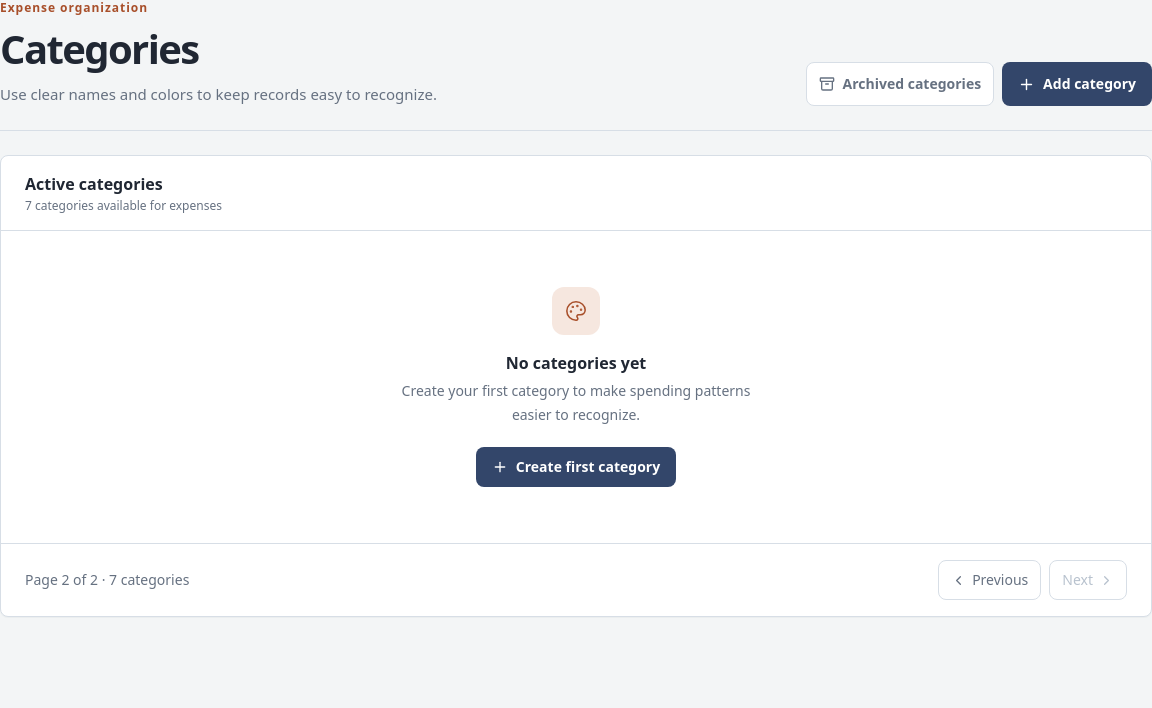
Scenario: expense category management › creates a category
Click the button "Add category" at (1077, 84), box top-left (1002, 62), bottom-right (1151, 106)
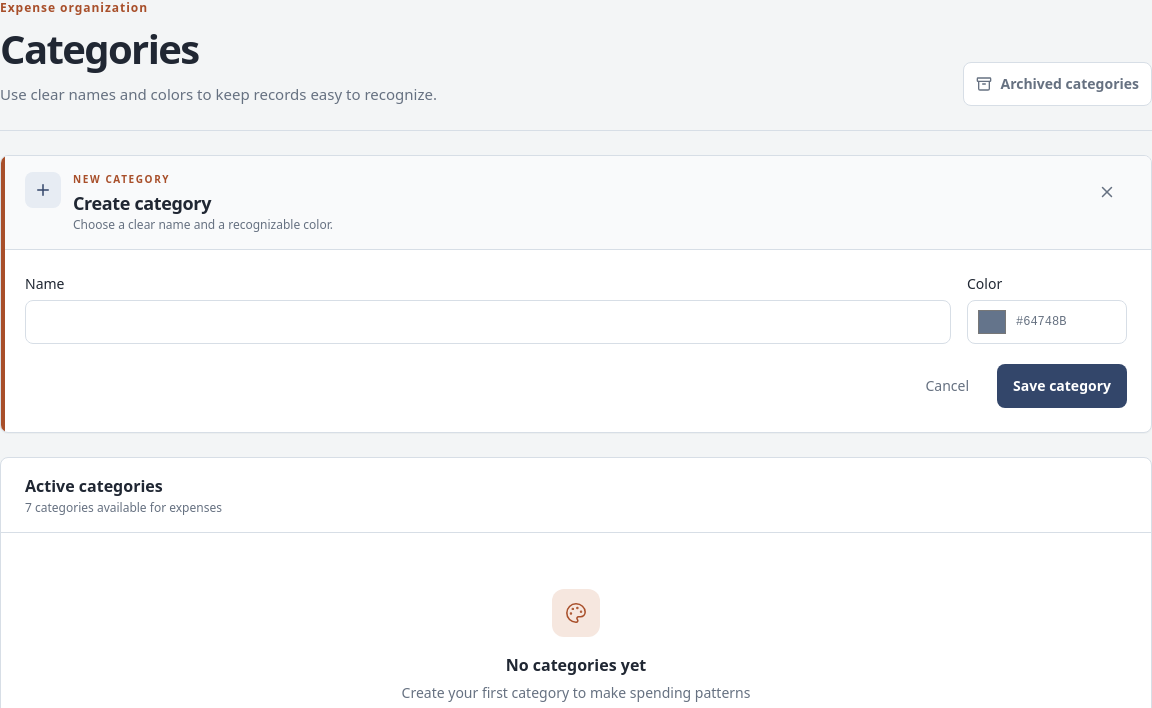
Type "Meals" into the field labelled "Name" at (488, 322), box top-left (25, 300), bottom-right (951, 344)
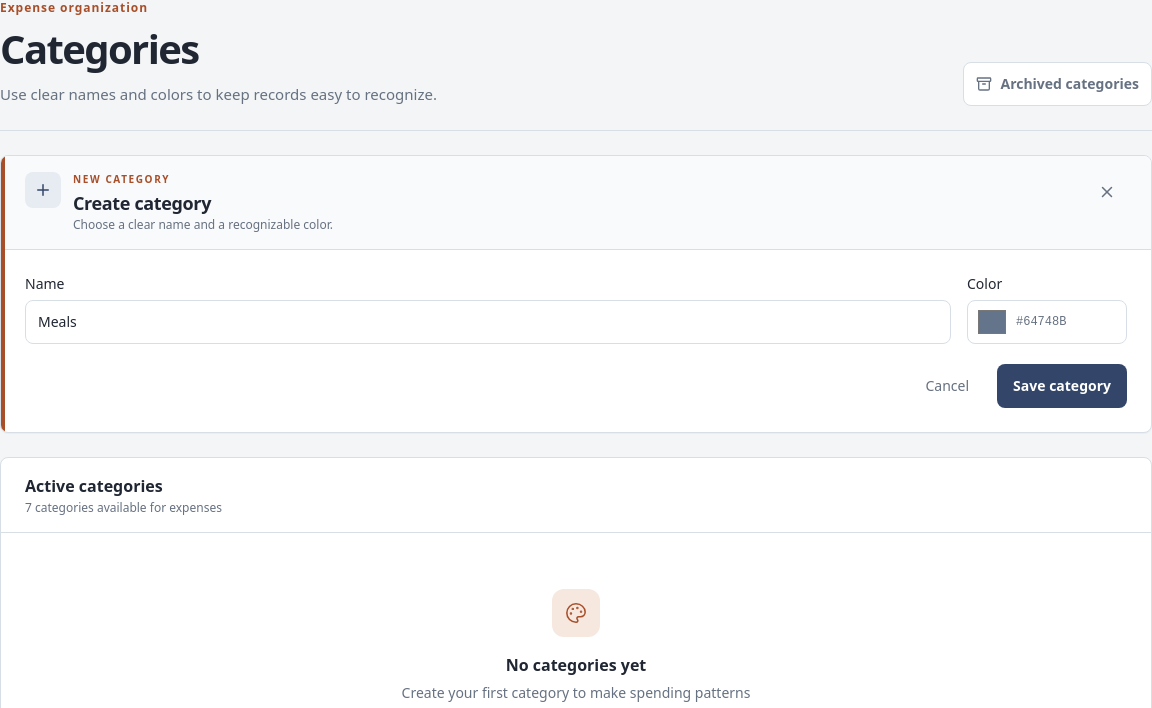
Submit the form named "Category form", box top-left (25, 274), bottom-right (1127, 408)
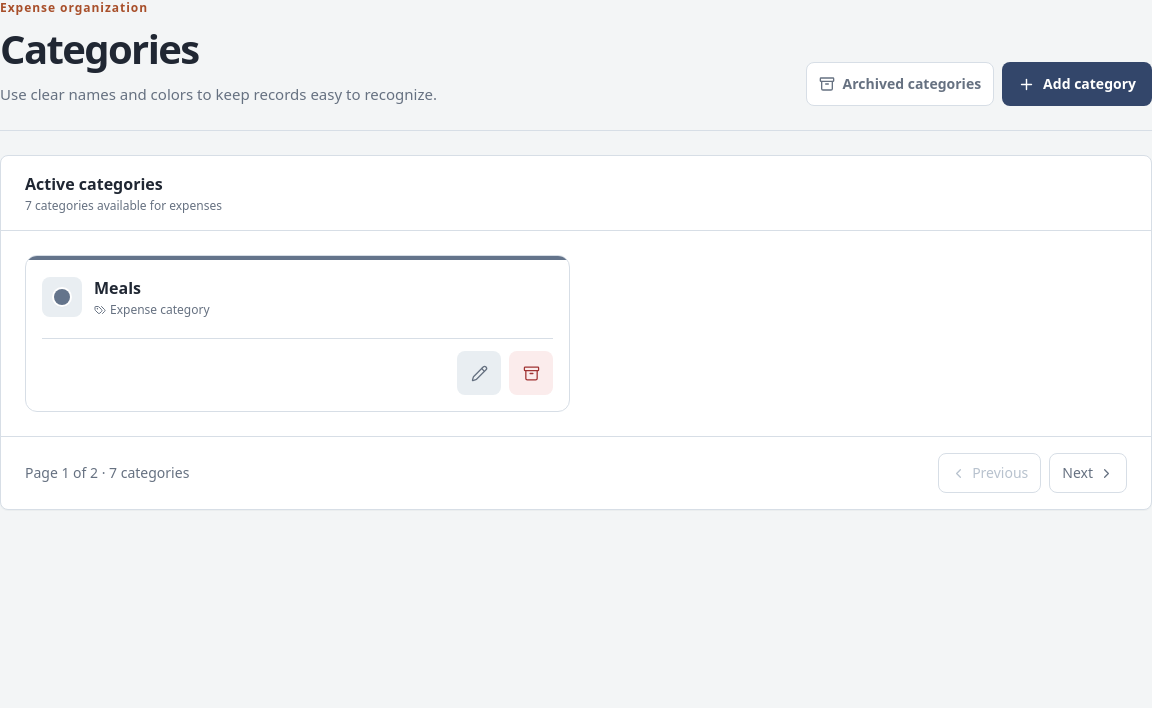
Check: the text "Meals" is shown, box top-left (94, 277), bottom-right (141, 299)
